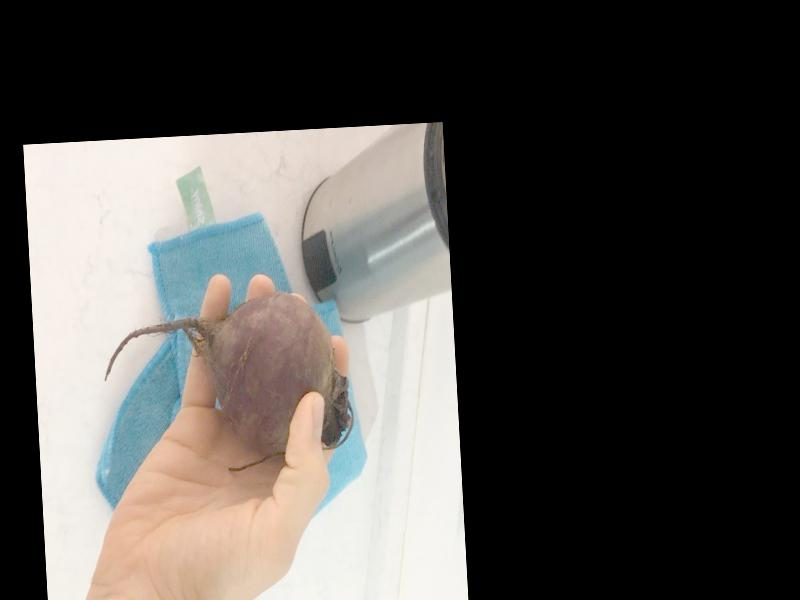Beet: (100, 289, 355, 477)
